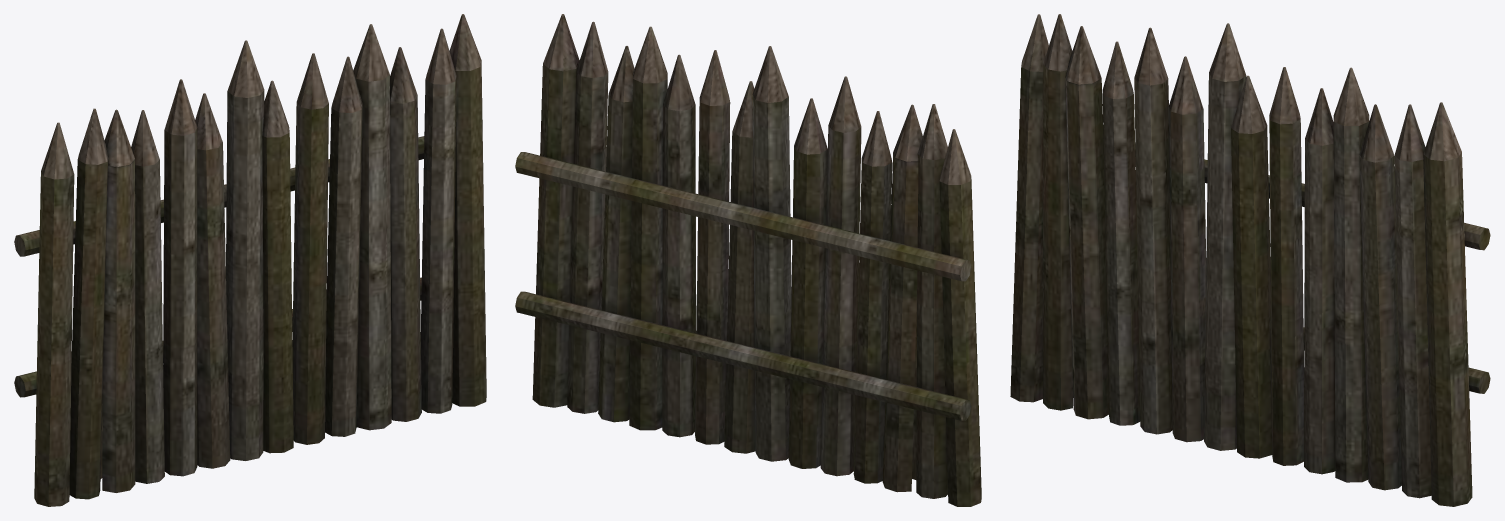
The model's file is palisade.glb.
3 renders of one model, left to right at view 1: azimuth 30°, elevation 25°; view 2: azimuth 150°, elevation 25°; view 3: azimuth 330°, elevation 25°, orthographic. The views are drawn at different scales.
Visible parts, largest first — view 1: palisade; view 2: palisade; view 3: palisade.
Part boxes in pixels (x1,y1,x2,y2): palisade: (14, 14, 486, 506); palisade: (515, 14, 981, 506); palisade: (1010, 14, 1490, 506).
Bounding box in the file's own units: 4.01 × 3.5 × 0.5545.
1 material, 1 textured.
